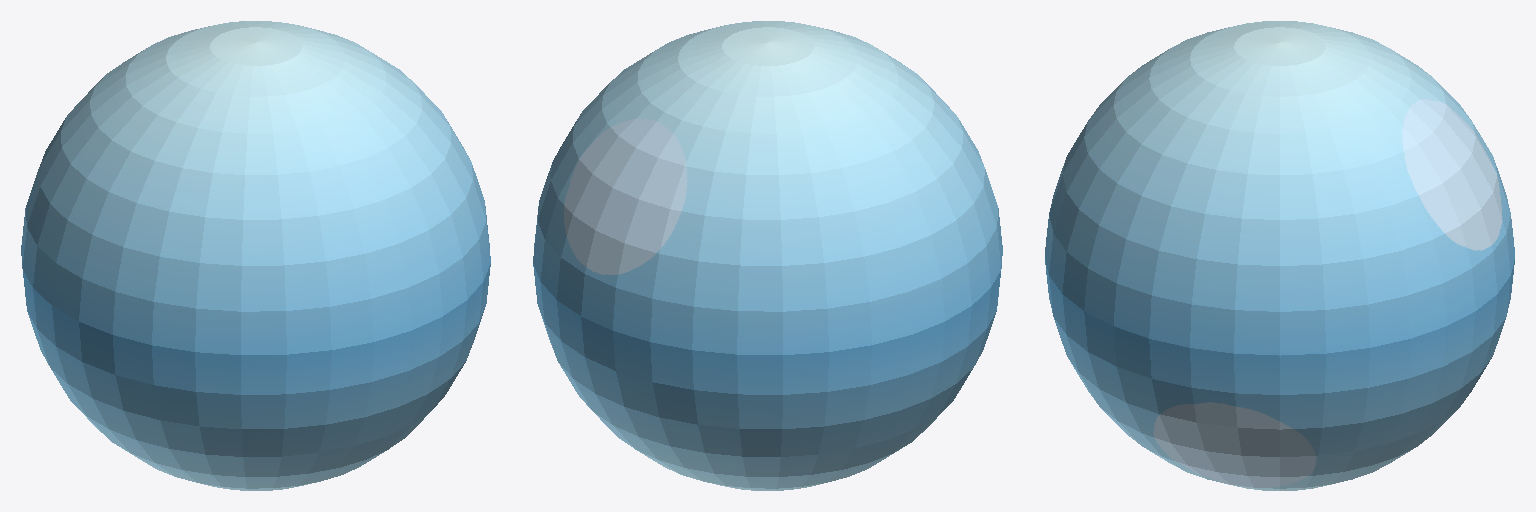
3 renders of one model, left to right at view 1: azimuth 30°, elevation 25°; view 2: azimuth 150°, elevation 25°; view 3: azimuth 270°, elevation 25°, orthographic.
Visible parts, largest first — view 1: 球; view 2: 球; view 3: 球.
Boxes of the visible parts, x1,y1,x2,y2 form: 球: [21, 21, 490, 490]; 球: [533, 21, 1002, 490]; 球: [1045, 21, 1514, 490].
Bounding box in the file's own units: 0.5 × 0.5 × 0.5.
1 materials, 1 textured.